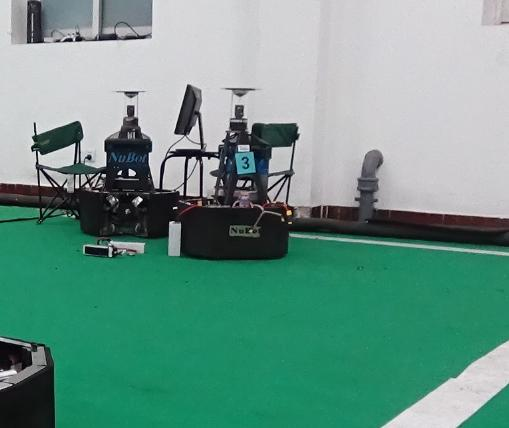robot: (180, 84, 292, 261), (80, 83, 179, 239)
